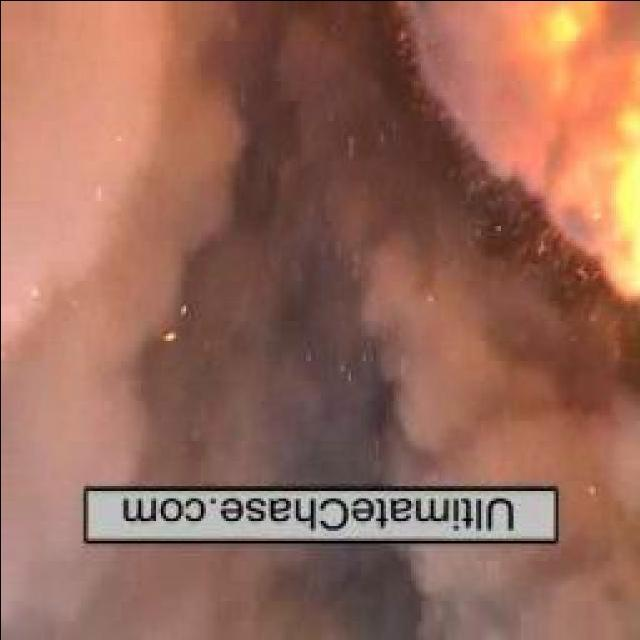Fire: (424, 0, 640, 324)
